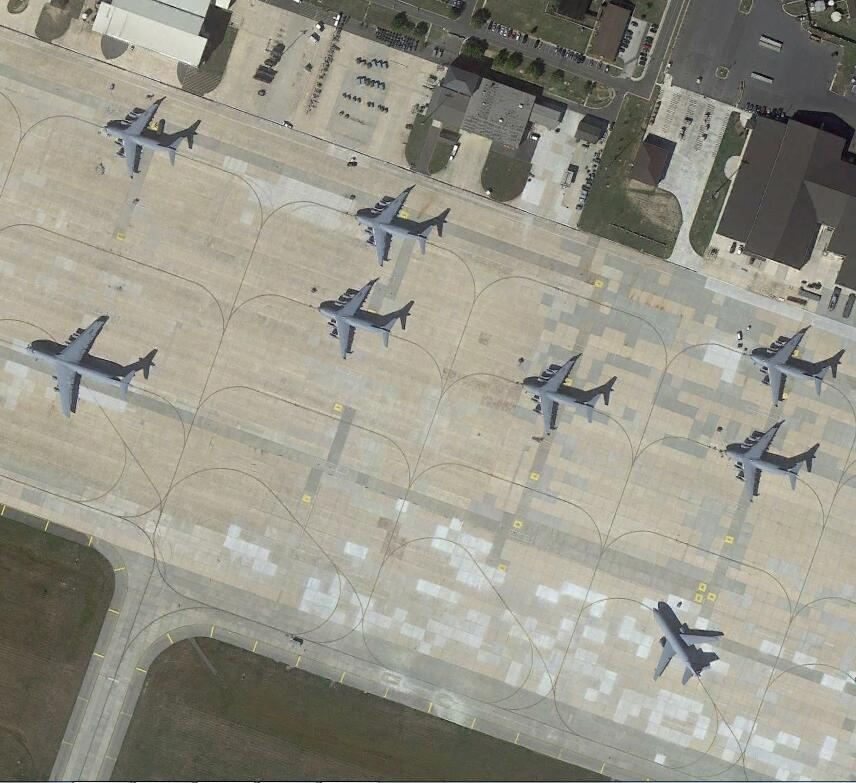A18: (649, 602, 727, 683)
A3: (321, 276, 408, 362), (747, 330, 837, 412), (105, 99, 189, 184), (725, 421, 809, 505), (521, 357, 609, 436), (354, 188, 441, 267)
A4: (28, 316, 140, 415)
